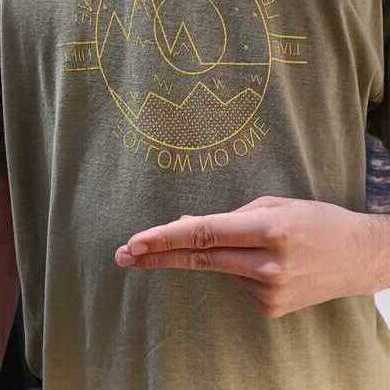H: (113, 195, 373, 318)
